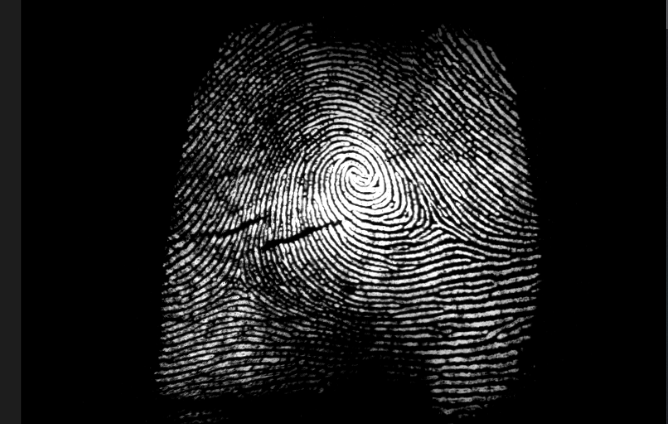deltas: (211, 247, 262, 308), (408, 200, 457, 243)
nucleo: (332, 144, 380, 193)
